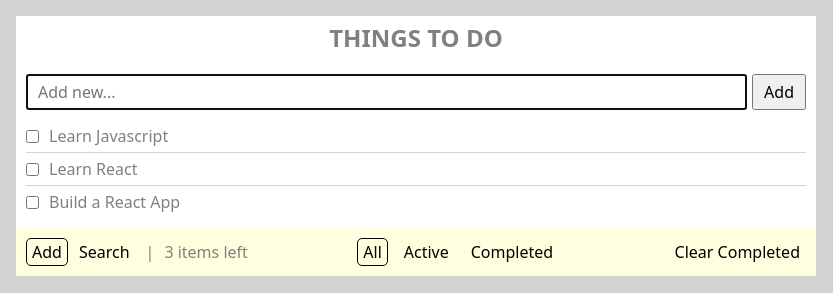
Test case: App › filters todos
Click the checkbox next to "Learn Javascript": (32, 136) top-left (26, 130), bottom-right (39, 142)
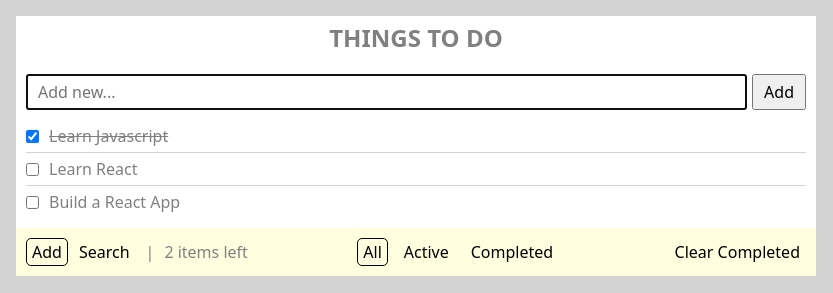
Click the button "active": (426, 252) top-left (398, 238), bottom-right (455, 266)
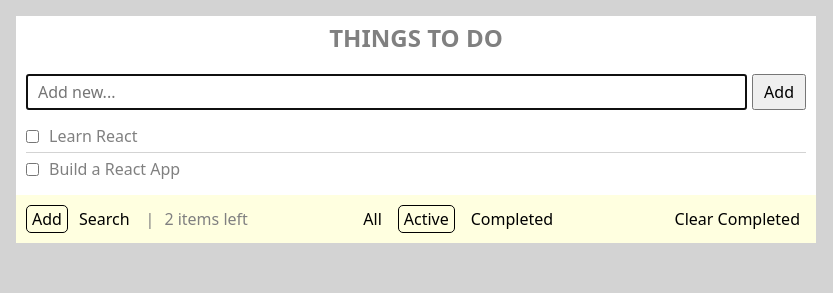
Expected: the text "Learn React" is shown, top-left (49, 125), bottom-right (138, 147)
Expected: the text "Learn Javascript" is gone
